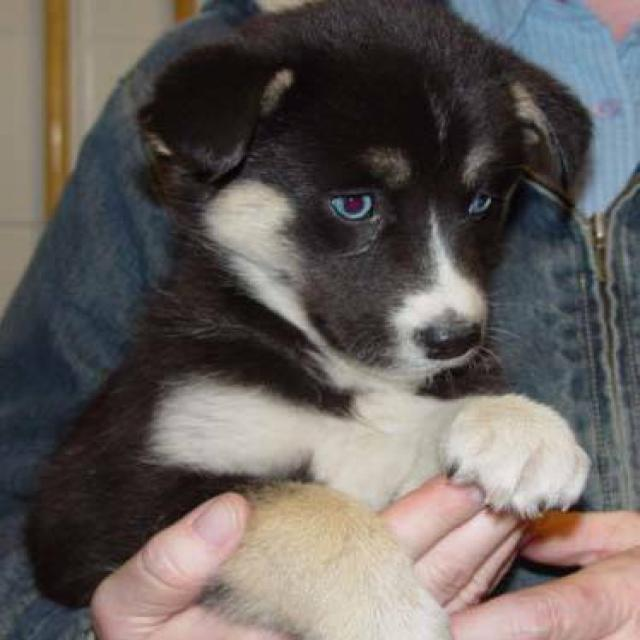Dog: (143, 3, 593, 380)
